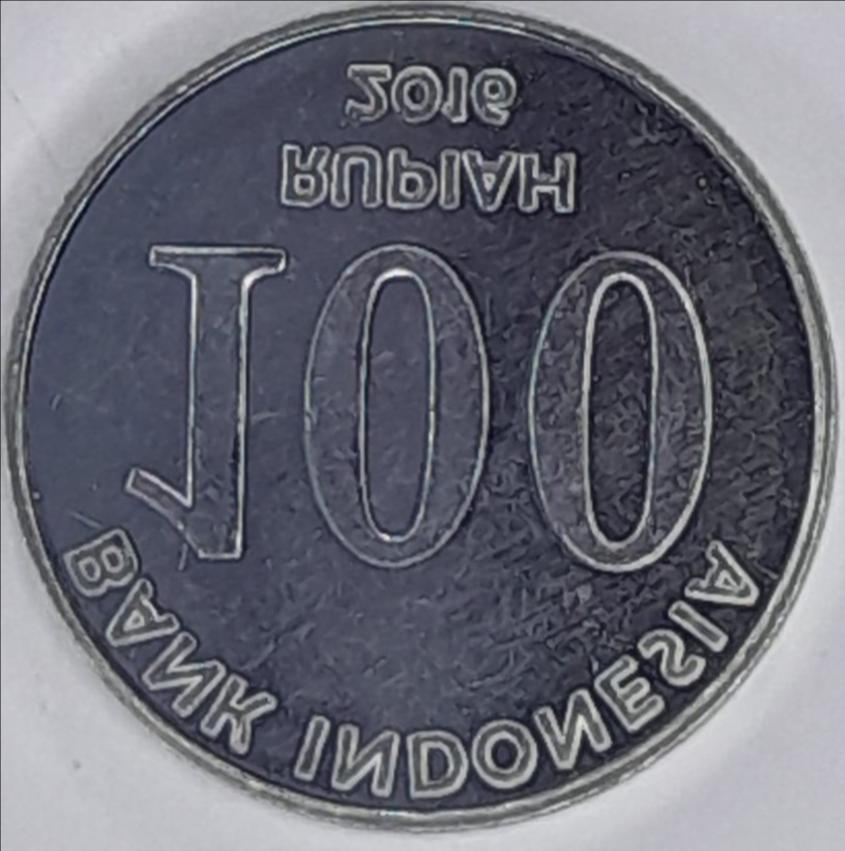coin_100_e2016: (0, 0, 844, 832)
